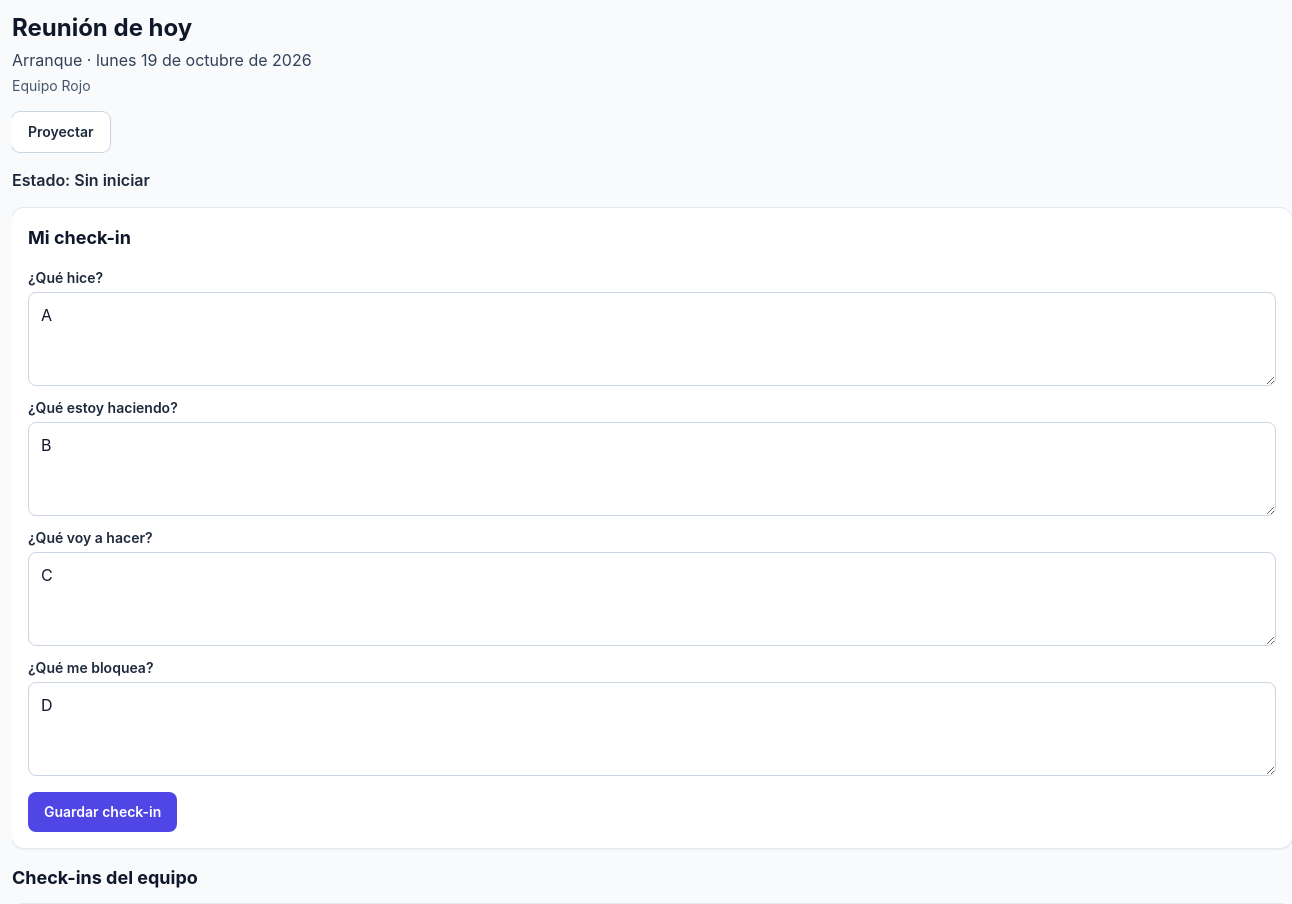
own check-in form › sends the other three texts too when only one changed, with the version it started from
This screenshot has width=1292, height=904.
Replace the text in the text box labelled "¿Qué me bloquea?" with "E" at {"x": 652, "y": 729}, box [28,682,1276,776]
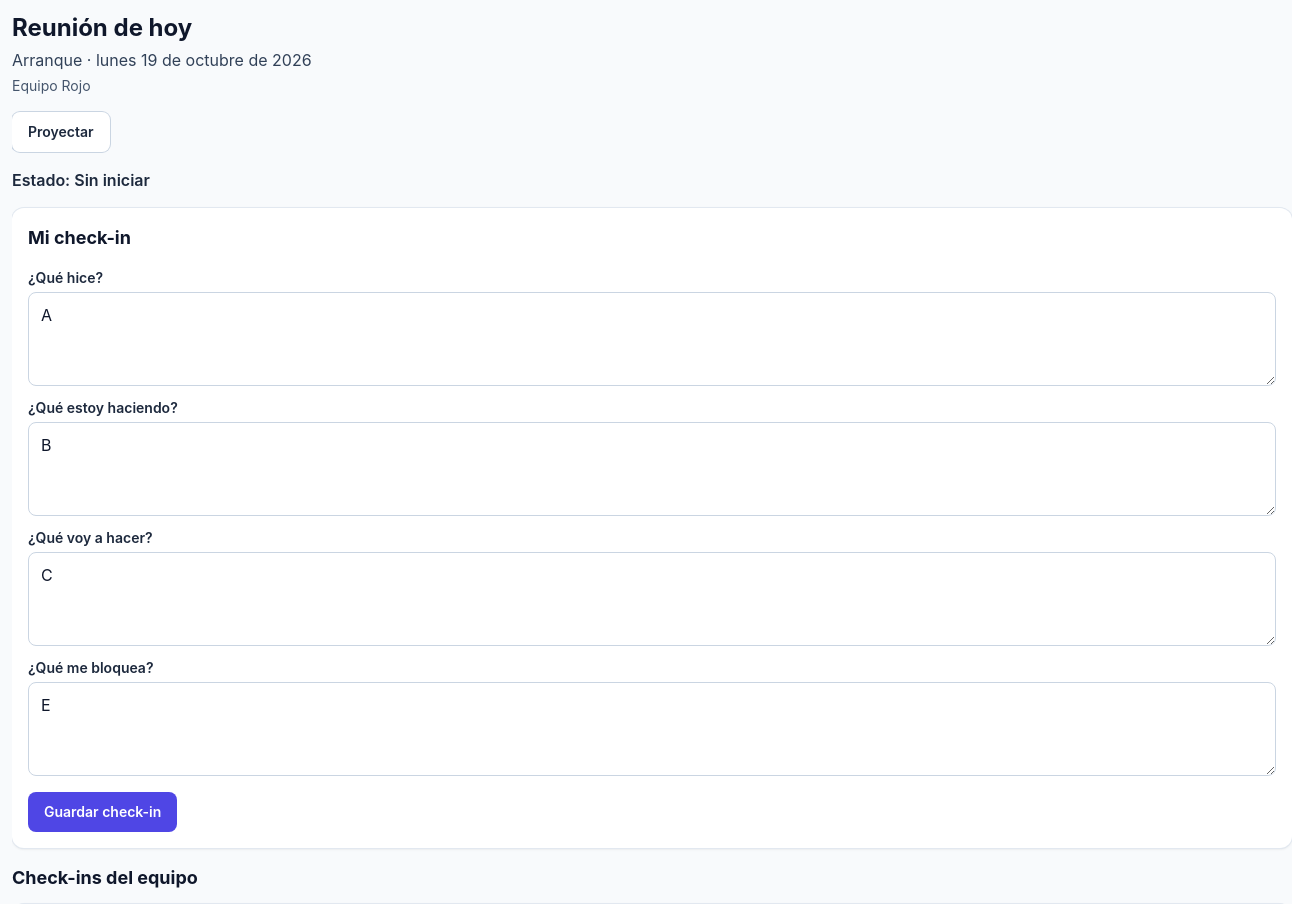
Click the button "Guardar check-in".
click(103, 812)  # box [28,792,177,832]
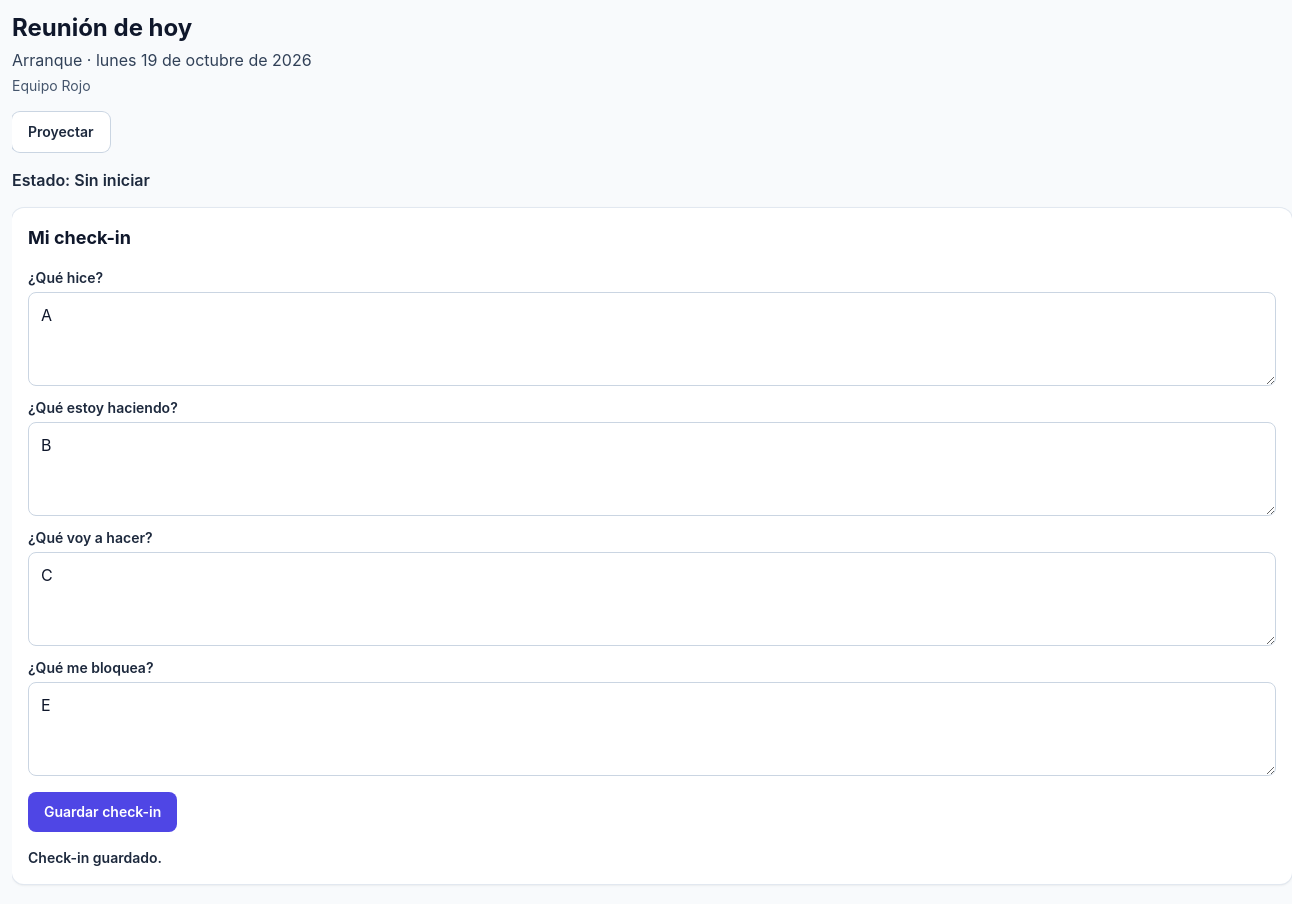
Result: the text "Check-in guardado." is shown at [28,849,162,866]
